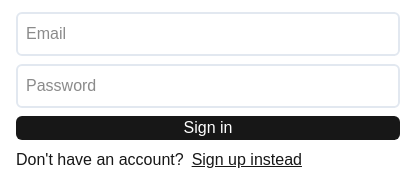
Test case: toggles between sign-in and sign-up flows
The width and height of the screenshot is (417, 189).
What coordinates should you click on to do the following:
click the text "Sign up instead"
I would click on:
 (247, 160)
Its box is top-left (192, 148), bottom-right (302, 172).
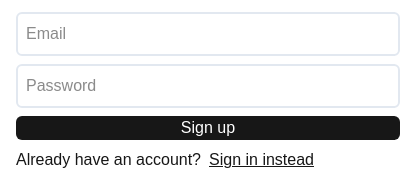
Result: the button "Sign up" is shown at top-left (16, 116), bottom-right (400, 140)
Result: the text "Already have an account?" is shown at top-left (16, 148), bottom-right (201, 172)
What coordinates should you click on to do the following:
click the text "Sign in instead"
I would click on:
 (262, 160)
Its box is top-left (209, 148), bottom-right (314, 172).
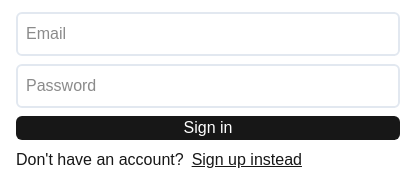
Result: the button "Sign in" is shown at top-left (16, 116), bottom-right (400, 140)
